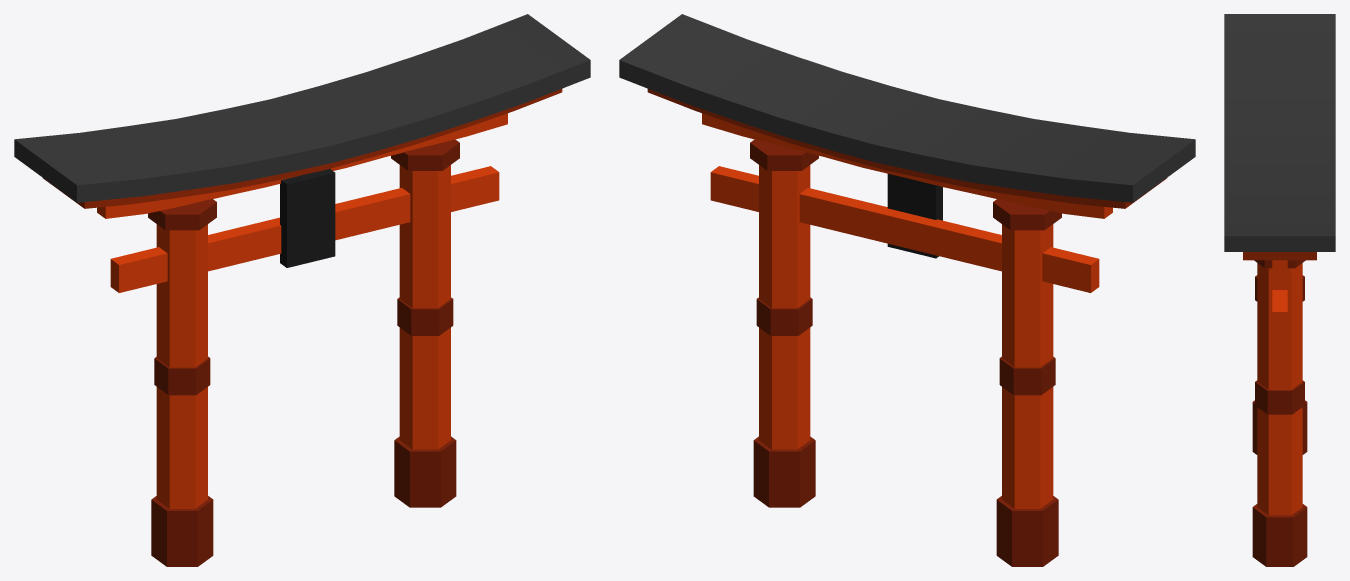
The model's file is portaaa.fbx.
The picture shows the model from 3 angles, left to right: view 1: azimuth 30°, elevation 25°; view 2: azimuth 150°, elevation 25°; view 3: azimuth 270°, elevation 25°; orthographic projection. The views are drawn at different scales.
Visible parts, largest first — view 1: pasted__polySurface327; view 2: pasted__polySurface327; view 3: pasted__polySurface327.
Part boxes in pixels (x1=…): pasted__polySurface327: x1=14, y1=14, x2=590, y2=566; pasted__polySurface327: x1=619, y1=14, x2=1195, y2=566; pasted__polySurface327: x1=1224, y1=14, x2=1335, y2=566.
Bounding box in the file's own units: 8.47 × 6.73 × 1.8.
